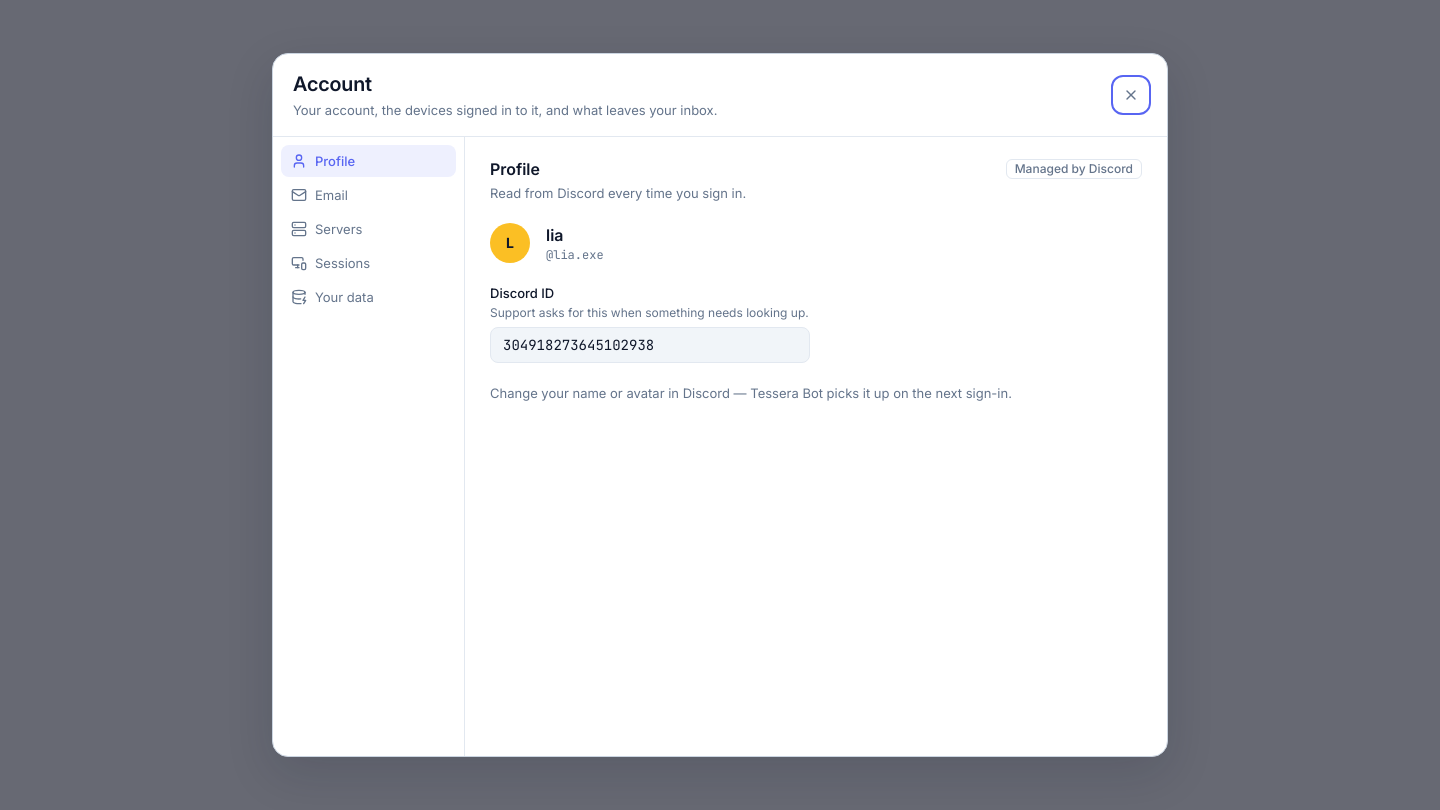
it: AccountPanel › raises the save bar for a change made in any section
Expected: the element "Unsaved changes" is not shown
Click the tab "Email". click: (368, 195)
box: [281, 179, 456, 211]
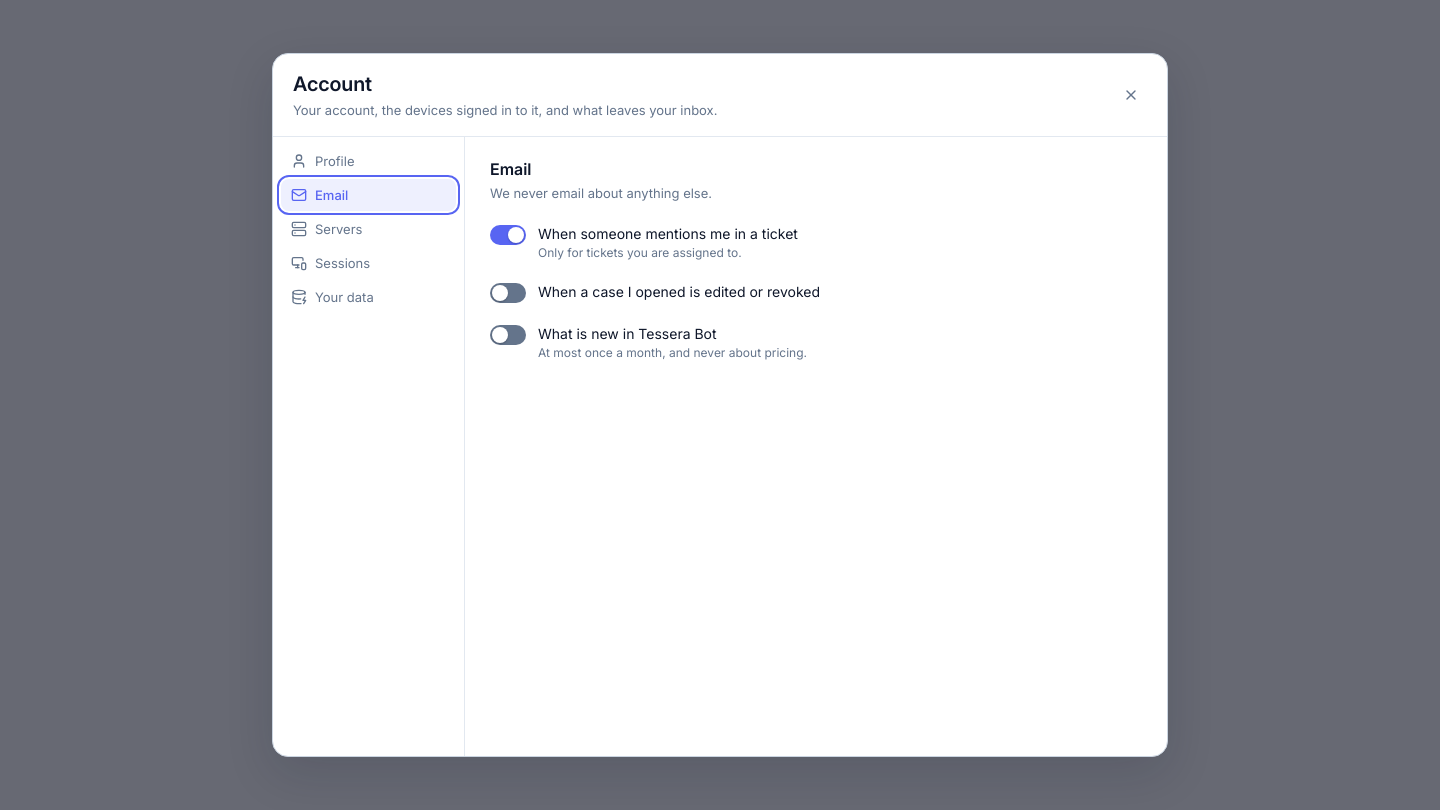
Click the 2nd switch named "When a case I opened is edited or revoked". click: (508, 293)
box: [490, 283, 526, 303]
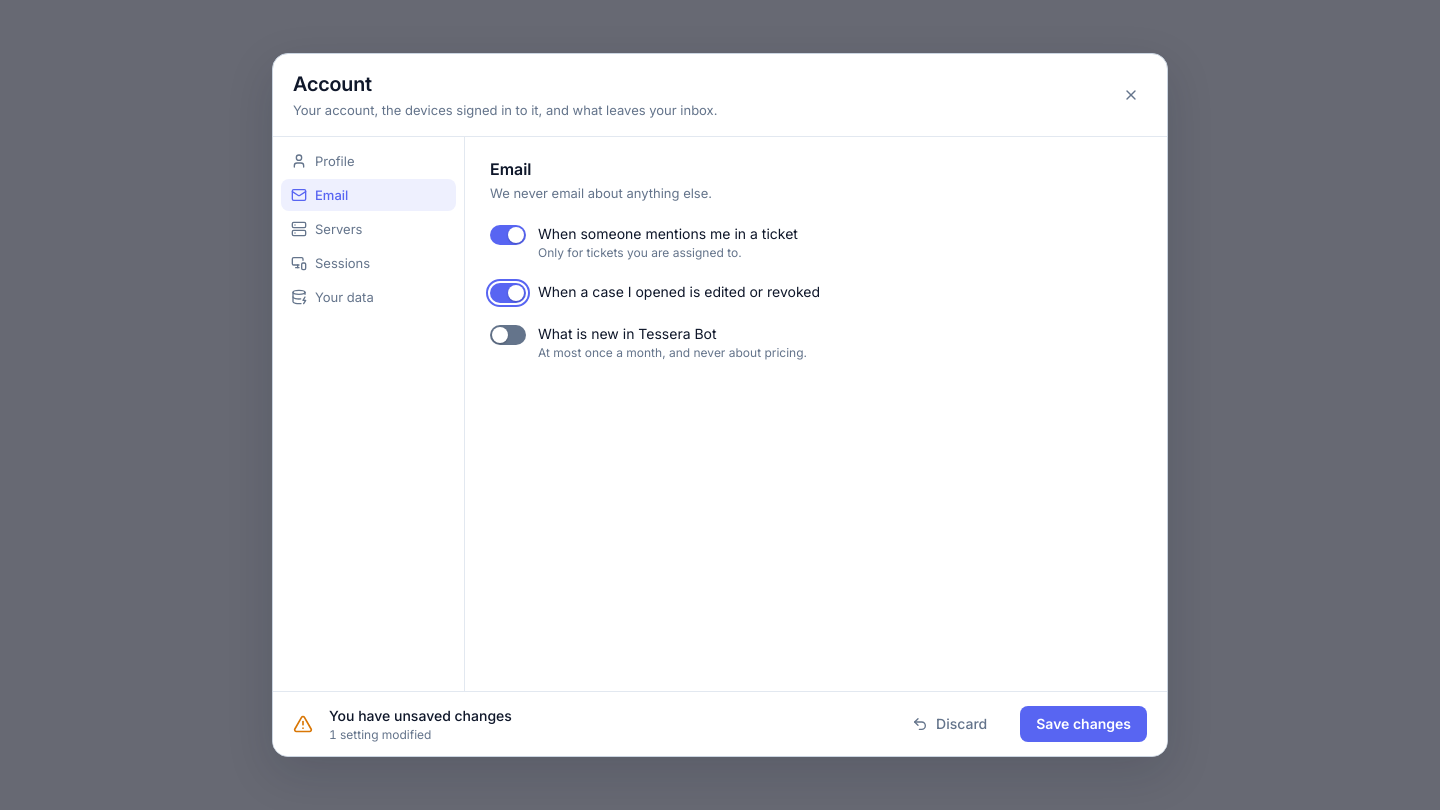
Now the element "unsaved changes" is shown, box [273, 691, 1167, 756]
